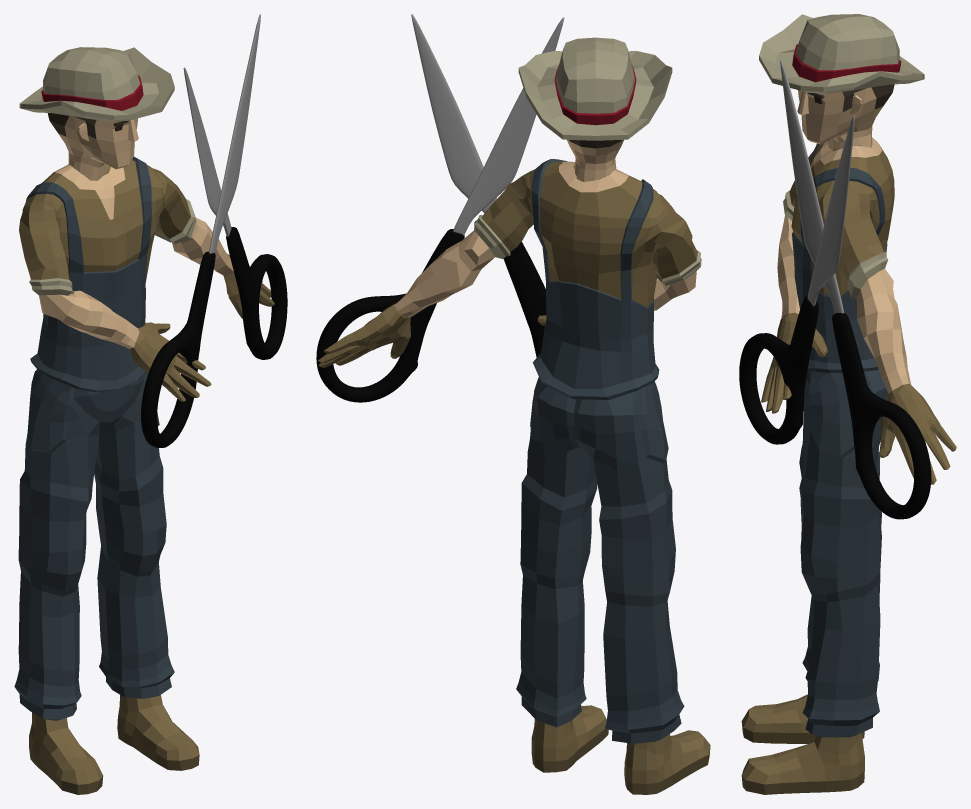
The model's file is Farmer_Open_Scissors.fbx.
3 renders of one model, left to right at view 1: azimuth 30°, elevation 25°; view 2: azimuth 150°, elevation 25°; view 3: azimuth 270°, elevation 25°, orthographic. The views are drawn at different scales.
Parts seen in each view (by area): view 1: Farmer_Pants, Farmer_Body, Farmer_Head, Farmer_Feet, scissors1, scissors2; view 2: Farmer_Pants, Farmer_Body, Farmer_Head, scissors2, Farmer_Feet, scissors1; view 3: Farmer_Pants, Farmer_Body, Farmer_Head, scissors2, scissors1, Farmer_Feet.
Boxes of the visible parts, <box> form: Farmer_Pants: <box>14,369,174,720</box>; Farmer_Body: <box>19,156,274,401</box>; Farmer_Head: <box>19,47,174,180</box>; Farmer_Feet: <box>29,695,199,794</box>; scissors1: <box>141,14,260,447</box>; scissors2: <box>183,67,287,359</box>; Farmer_Pants: <box>516,377,684,743</box>; Farmer_Body: <box>318,159,701,399</box>; Farmer_Head: <box>518,37,672,181</box>; scissors2: <box>316,17,564,402</box>; Farmer_Feet: <box>531,705,710,794</box>; scissors1: <box>411,14,546,357</box>; Farmer_Pants: <box>799,370,888,737</box>; Farmer_Body: <box>761,137,956,484</box>; Farmer_Head: <box>759,14,924,149</box>; scissors2: <box>780,59,931,519</box>; scissors1: <box>739,115,854,444</box>; Farmer_Feet: <box>741,694,864,794</box>.
Size of the model in its own units: 0.8681 by 0.4925 by 1.86.
